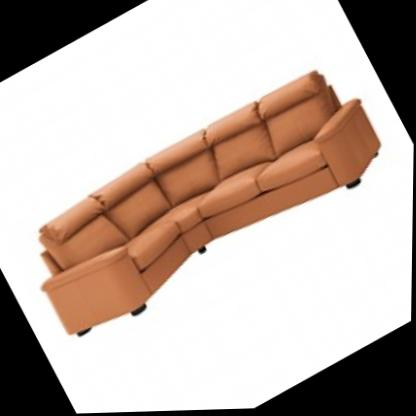Sofa: (0, 33, 410, 374)
